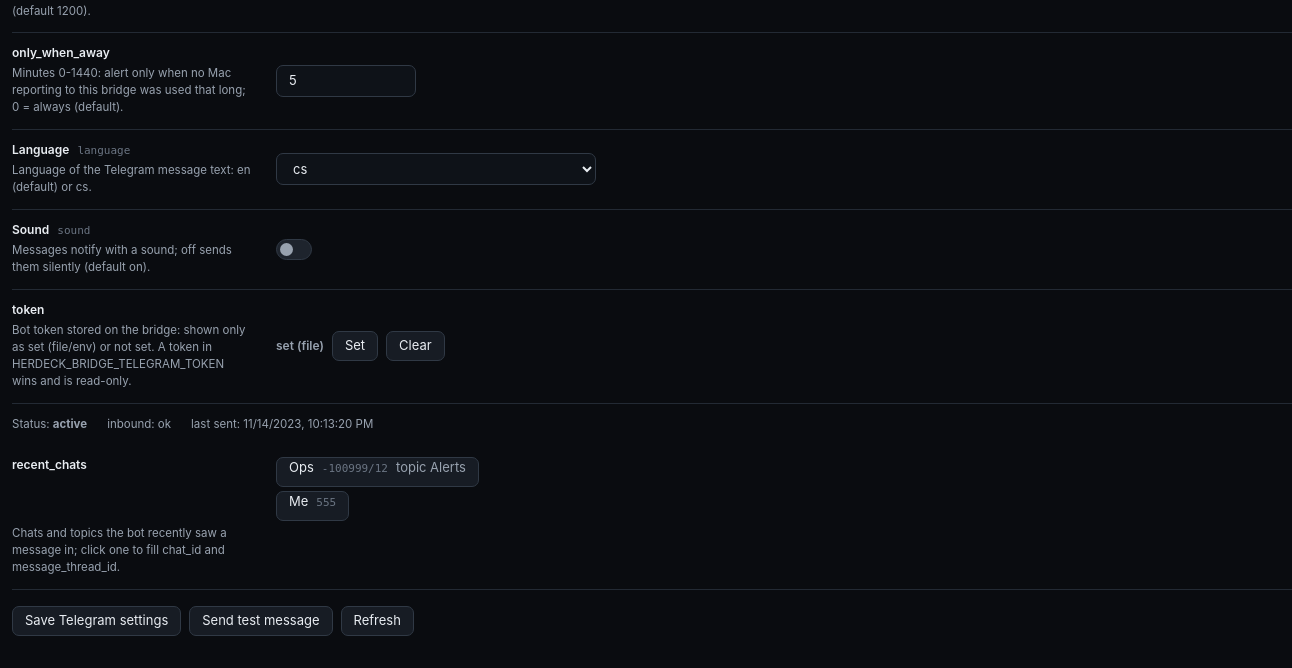
Test: token row › env_locked from the server is explained
The image size is (1292, 668).
(page scrolled)
Click the button "Clear" at (415, 346), box [386, 331, 445, 361]
(page scrolled)
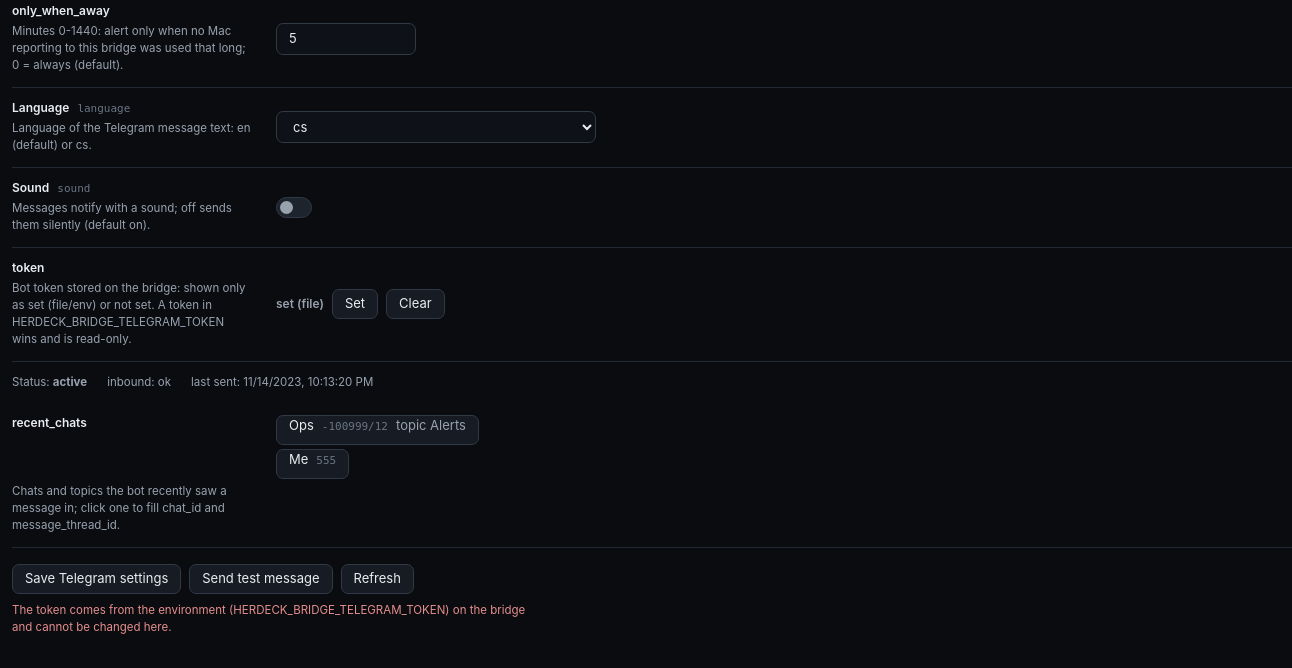
Now the message shows "environment", box [12, 603, 525, 634]
